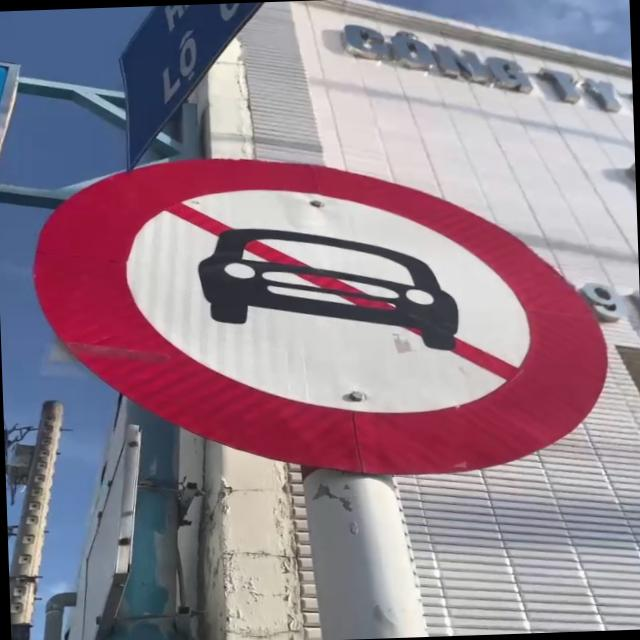Cam_O_To: (25, 140, 616, 491)
